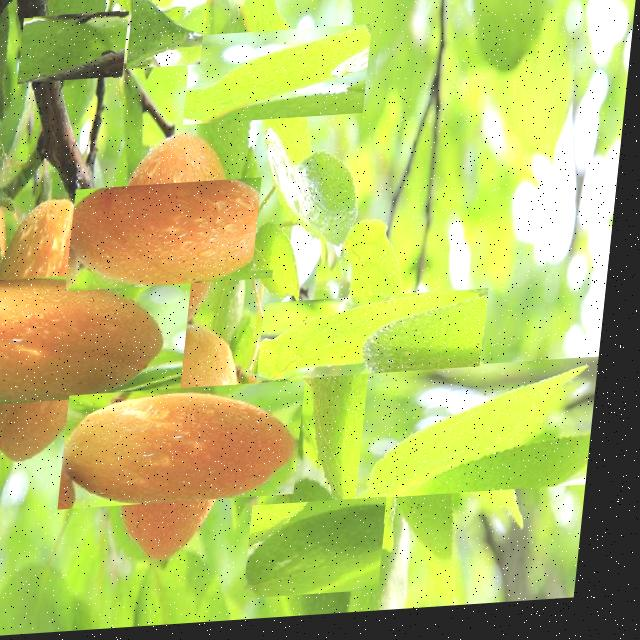Apricot: (97, 356, 287, 540), (0, 232, 161, 447), (95, 155, 263, 318)
Leaf: (390, 340, 585, 530), (309, 330, 435, 561), (299, 261, 463, 420), (207, 7, 353, 149), (258, 140, 373, 275), (266, 493, 390, 613), (27, 3, 121, 94), (464, 0, 554, 91), (126, 0, 210, 69)
